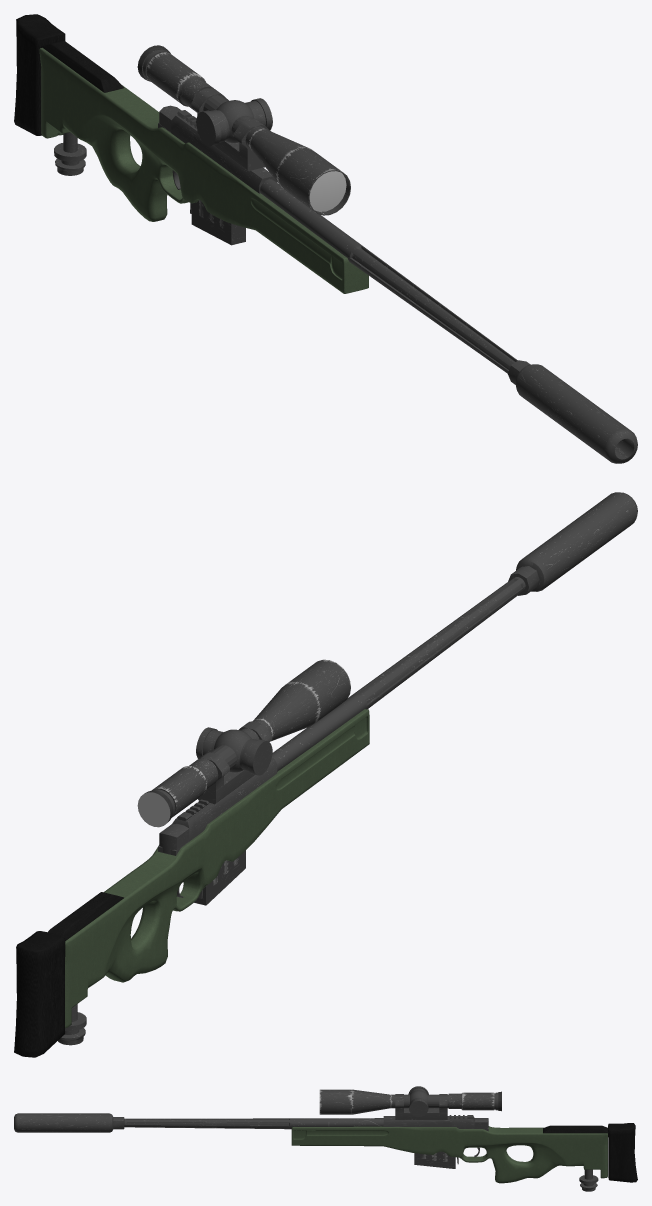
3 renders of one model, top to bottom at view 1: azimuth 30°, elevation 25°; view 2: azimuth 150°, elevation 25°; view 3: azimuth 270°, elevation 25°, orthographic. The views are drawn at different scales.
Parts seen in each view (by area): view 1: Team3_Sanchez_L96A1; view 2: Team3_Sanchez_L96A1; view 3: Team3_Sanchez_L96A1.
Boxes of the visible parts, left/top/right/bottom form: Team3_Sanchez_L96A1: left=14, top=14, right=637, bottom=463; Team3_Sanchez_L96A1: left=14, top=492, right=637, bottom=1057; Team3_Sanchez_L96A1: left=14, top=1086, right=637, bottom=1191.
Size of the model in its own units: 2.03 by 6.46 by 36.76.
Materials: 6 (5 with a texture image).
